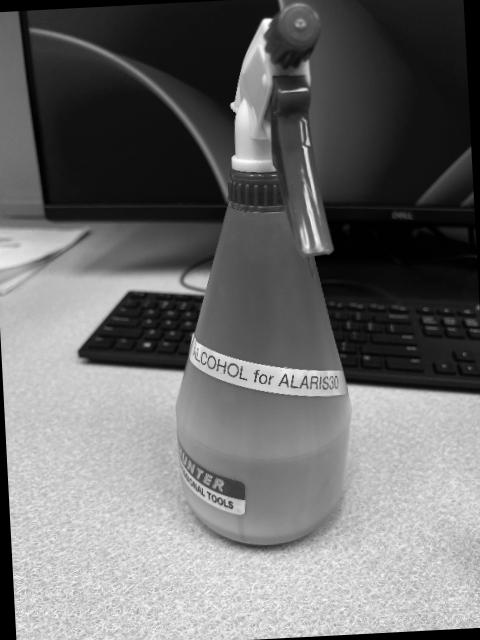AlcoholSpray: (174, 3, 351, 551)
